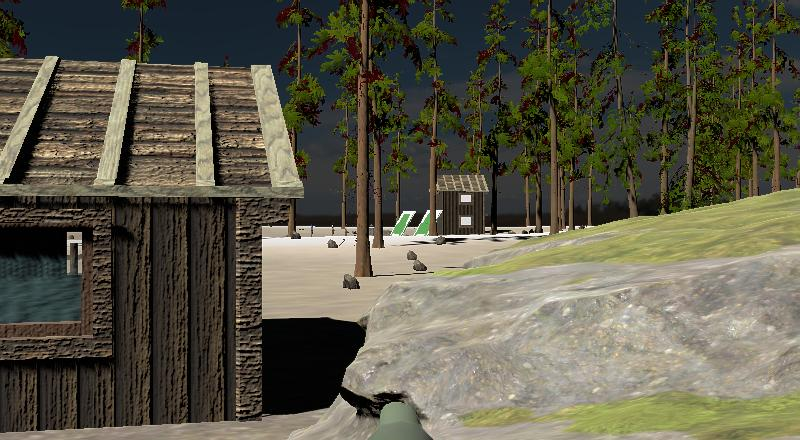House: (0, 56, 304, 439), (426, 173, 490, 234)
